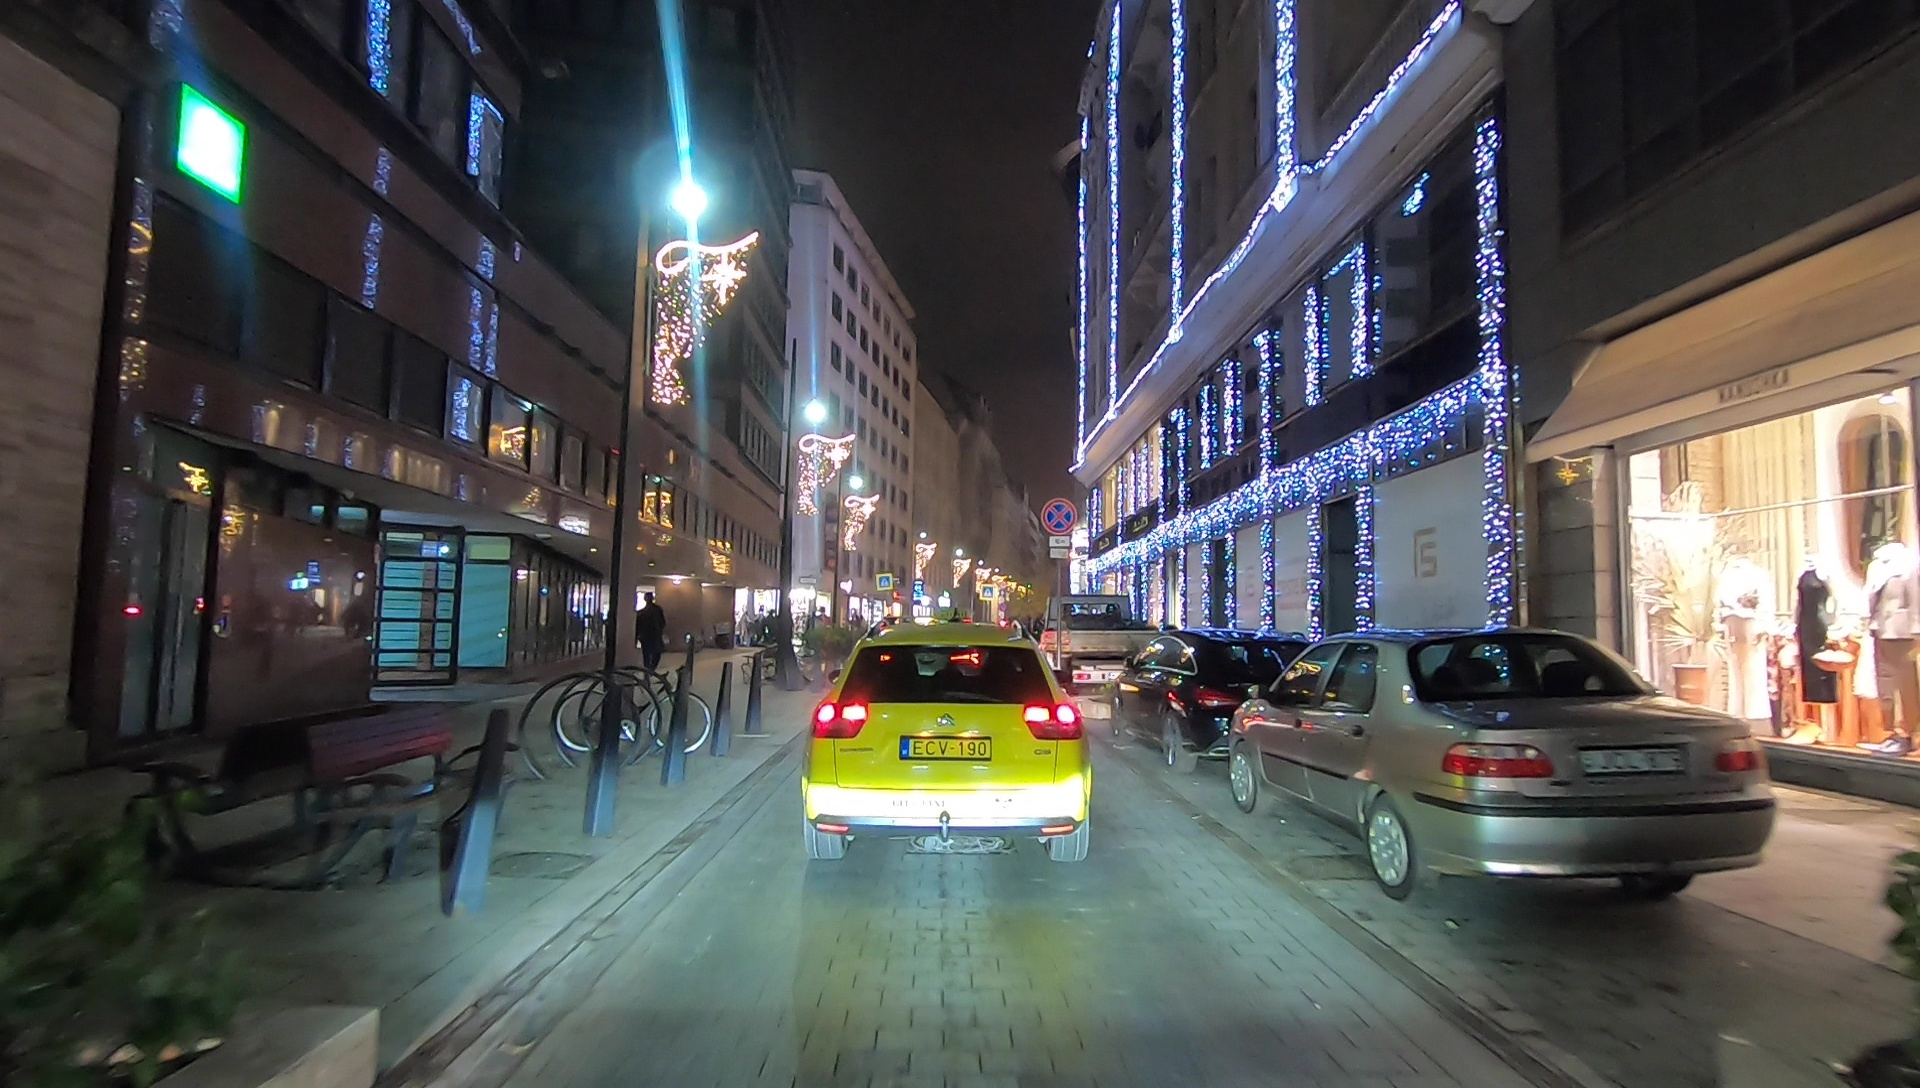person: (634, 589, 669, 680)
